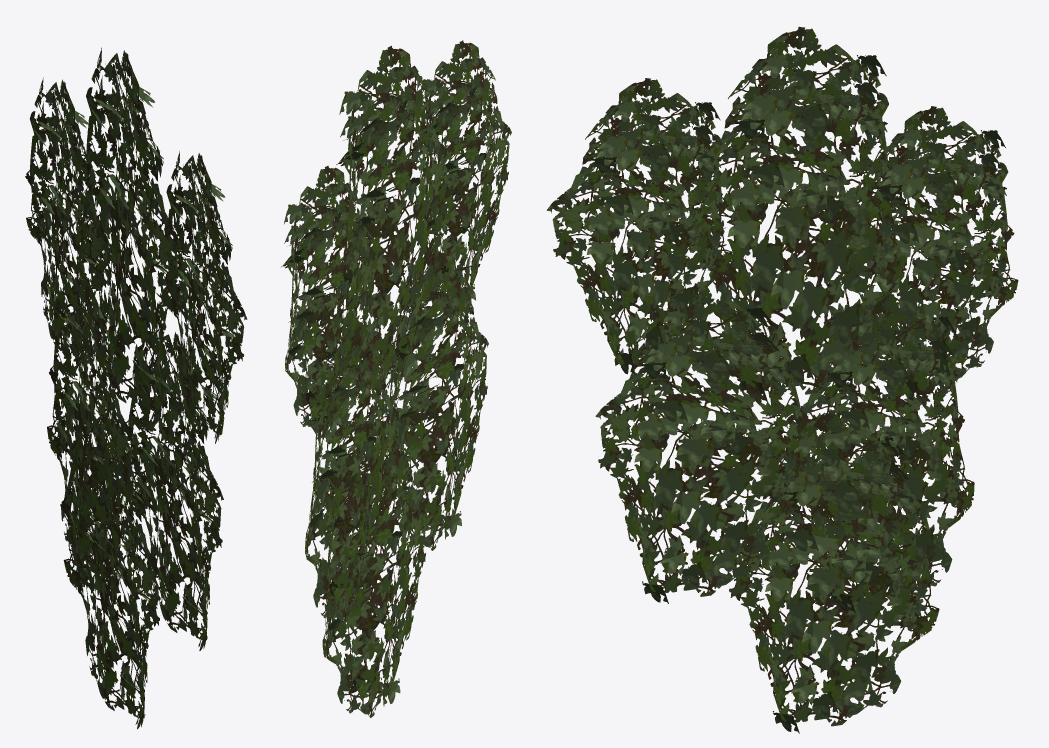
Rendered from SM_ivy_03.glb.
The picture shows the model from 3 angles, left to right: view 1: azimuth 30°, elevation 25°; view 2: azimuth 150°, elevation 25°; view 3: azimuth 270°, elevation 25°; orthographic projection. The views are drawn at different scales.
Parts seen in each view (by area): view 1: SM_ivy_03; view 2: SM_ivy_03; view 3: SM_ivy_03.
Boxes of the visible parts, <box> form: SM_ivy_03: <box>25,47,247,729</box>; SM_ivy_03: <box>281,40,511,717</box>; SM_ivy_03: <box>546,26,1018,733</box>.
Size of the model in its own units: 0.2503 by 5.87 by 3.67.
Materials: 1 (1 with a texture image).
